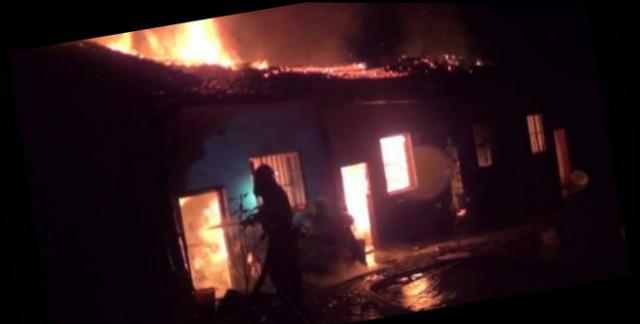fire: (103, 15, 235, 89), (175, 186, 236, 297), (338, 162, 376, 245), (376, 129, 412, 189)
